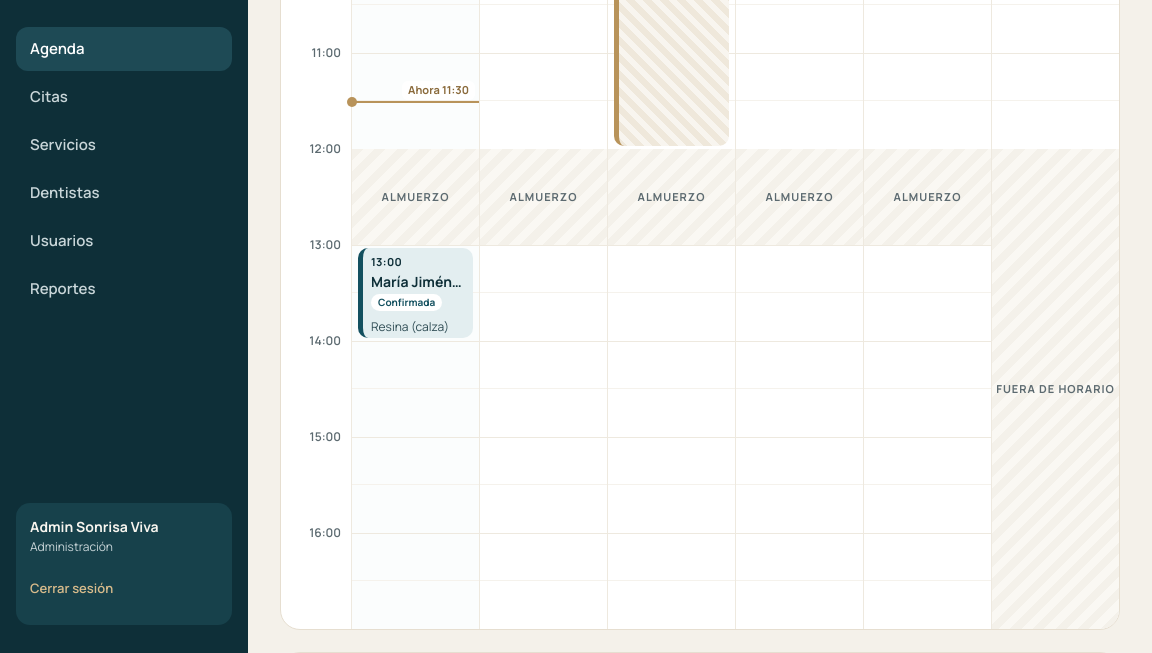
Test: Agenda semanal › admin cancela una cita confirmada tras confirmar
(page scrolled)
Click the button "13:00 María Jiménez Confirmada Resina (calza)".
click(416, 293)  # box [358,248,473,338]
(page scrolled)
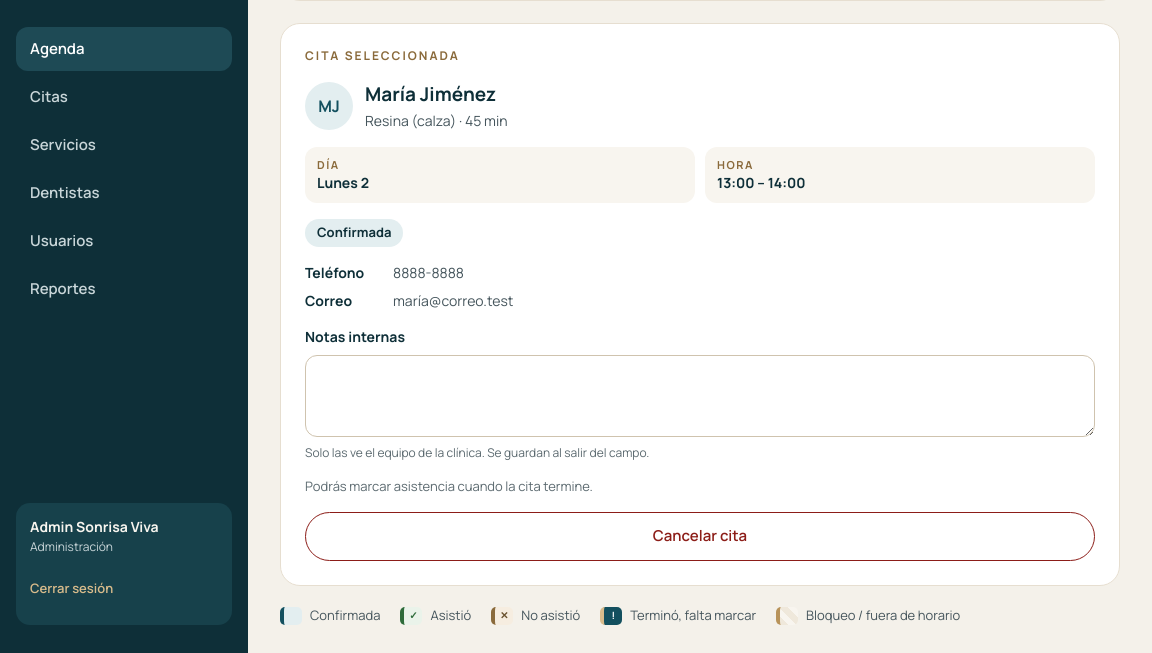
Click the button "Cancelar cita".
click(700, 537)  # box [305,512,1095,561]
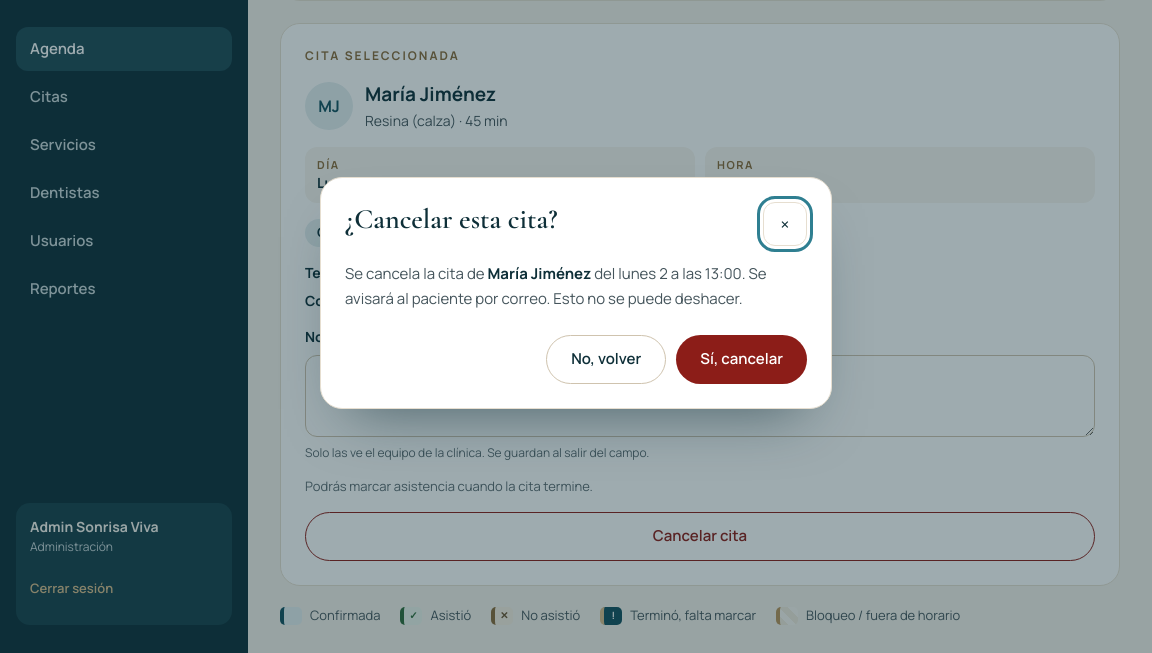
Click the button "Sí, cancelar".
click(742, 359)  # box [676,335,807,384]
(page scrolled)
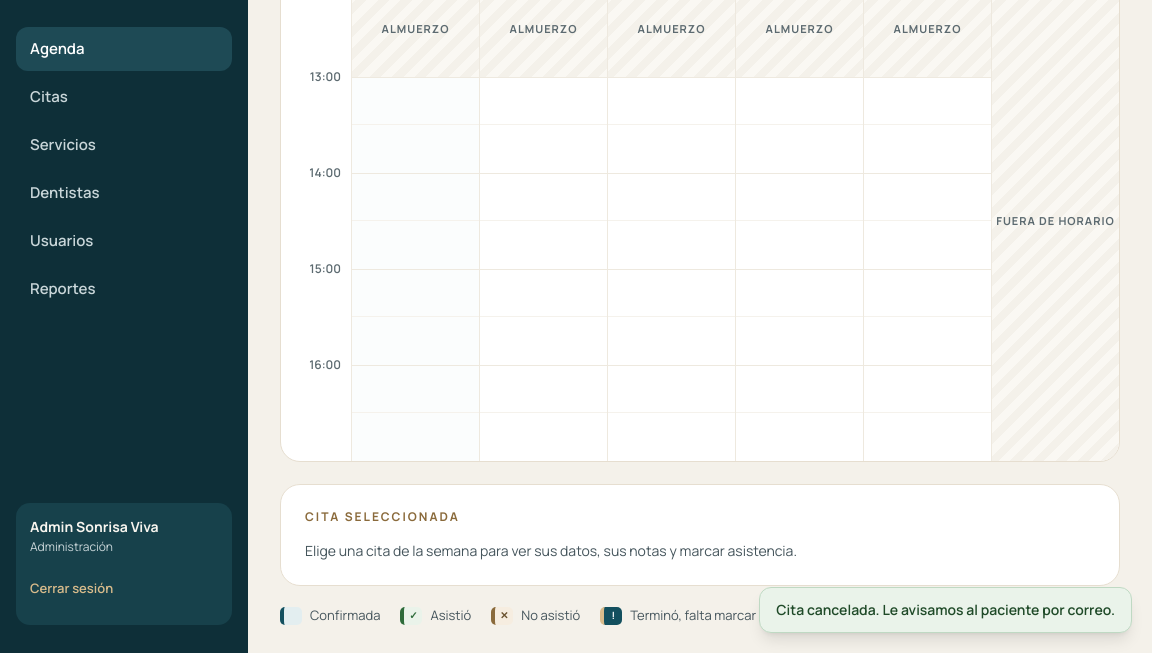
expect the text "Cita cancelada. Le avisamos al paciente por correo." is shown: met, box [759,587,1132,633]
